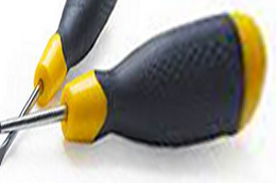screwdriver: (1, 2, 276, 155)
